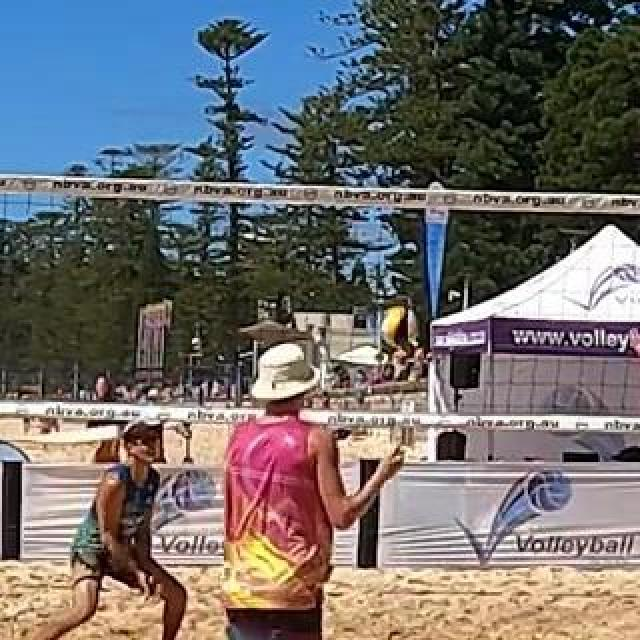volleyball: (381, 305, 417, 343)
